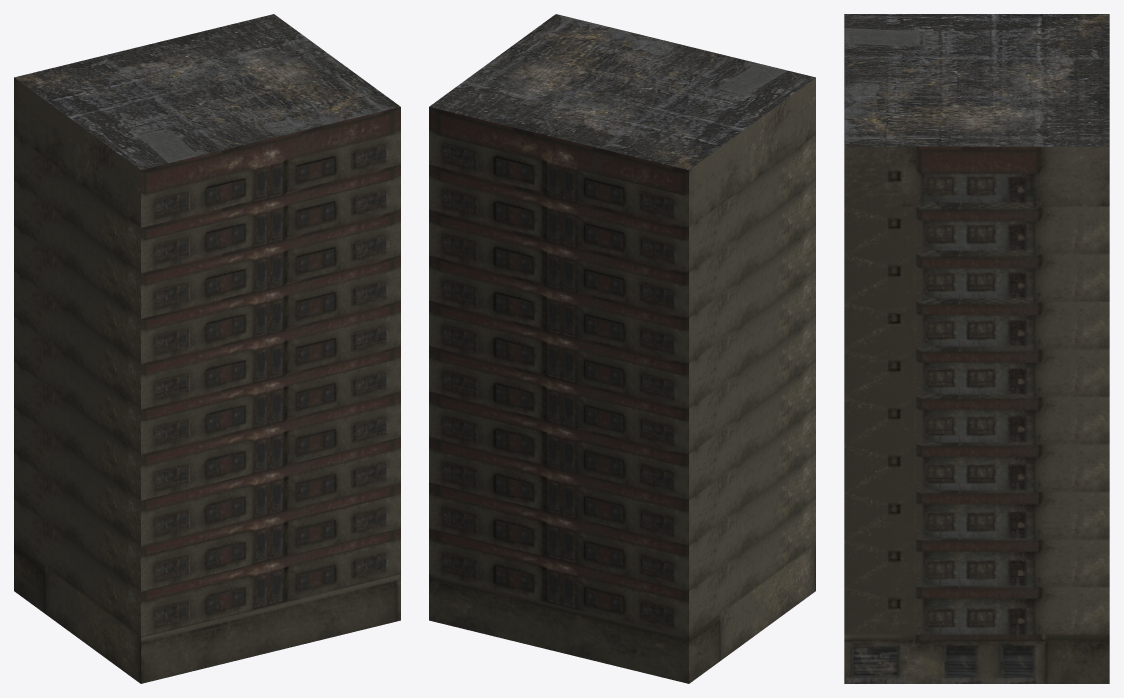
The model's file is Tower04.FBX.
3 renders of one model, left to right at view 1: azimuth 30°, elevation 25°; view 2: azimuth 150°, elevation 25°; view 3: azimuth 270°, elevation 25°, orthographic. The views are drawn at different scales.
Parts seen in each view (by area): view 1: Tower04; view 2: Tower04; view 3: Tower04.
Boxes of the visible parts, x1=… form: Tower04: x1=14, y1=14, x2=400, y2=683; Tower04: x1=429, y1=14, x2=815, y2=683; Tower04: x1=844, y1=14, x2=1109, y2=683.
Size of the model in its own units: 3061 by 5779 by 2586.
